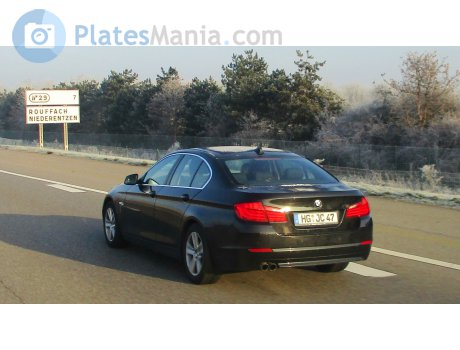License Plates: (299, 209, 335, 222)
